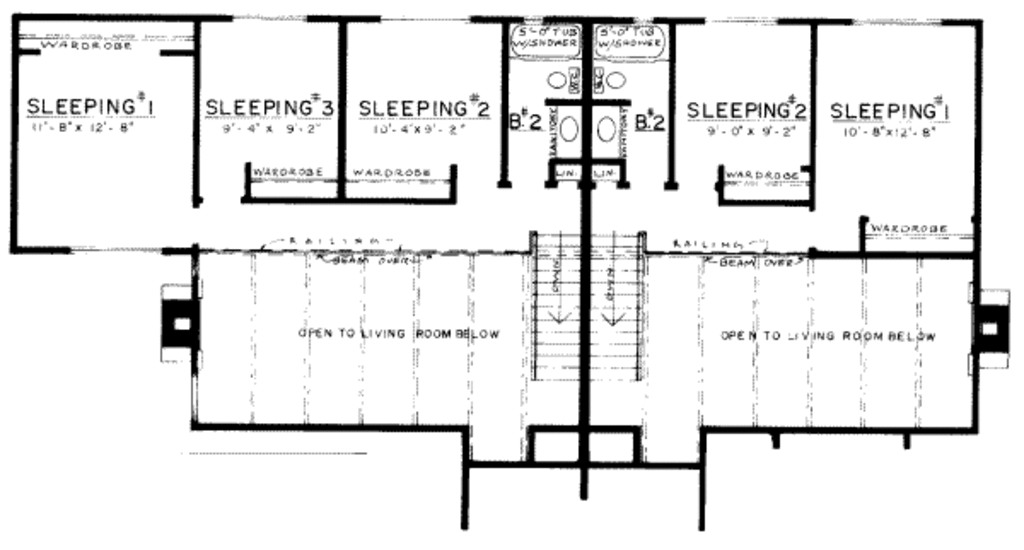large_sink: (592, 61, 631, 99), (542, 64, 581, 97)
small_sink: (589, 102, 627, 160), (549, 101, 582, 160)
stairs: (592, 228, 657, 398), (525, 228, 585, 401)
tub: (596, 12, 685, 66), (503, 18, 591, 56)
